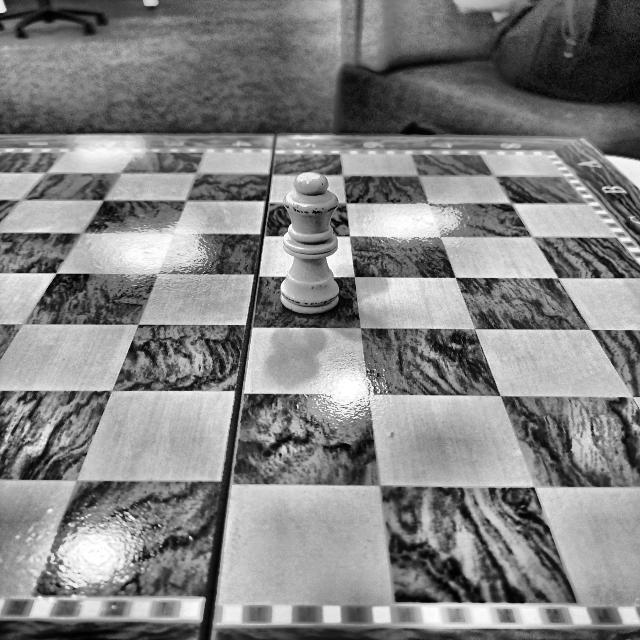white-queen: (279, 172, 339, 315)
